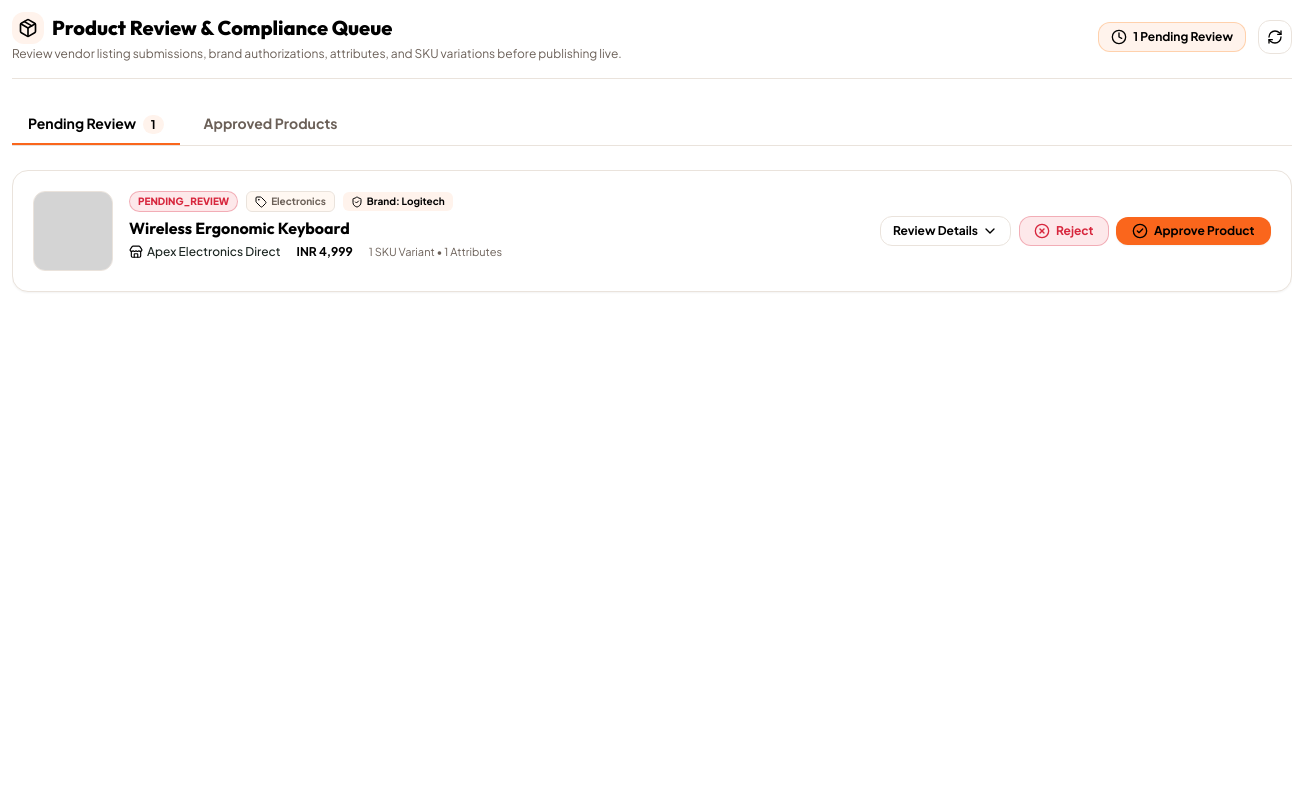
Test case: ProductReviewModule Component › 3. Approves product when Approve button is clicked and removes it from queue
Expected: the heading "Wireless Ergonomic Keyboard" is shown, [129,218,350,238]
Click the button "Approve Product" at (1194, 231), box [1116,217,1271,245]
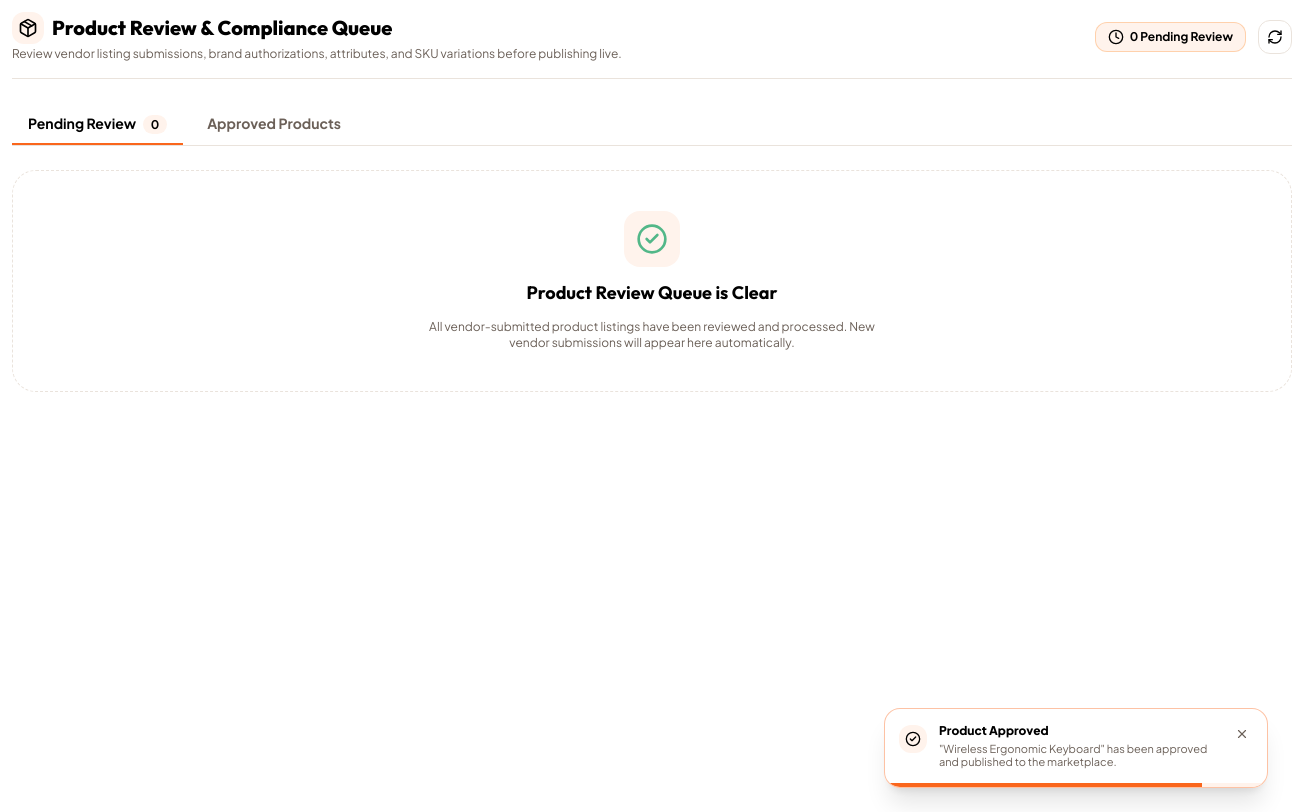
Expected: the heading "Product Review Queue is Clear" is shown, [526,281,777,304]
